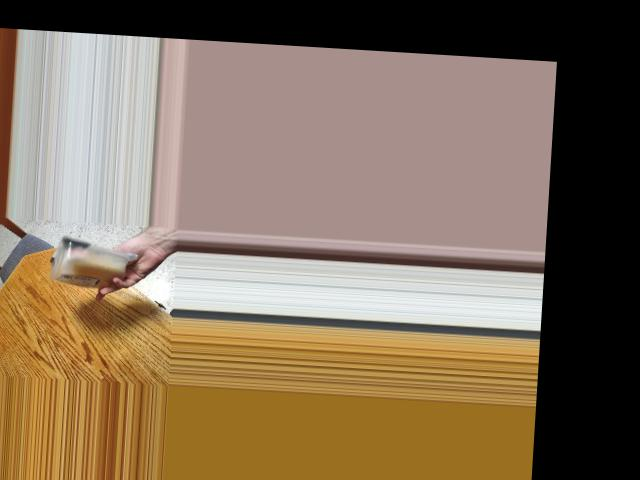cheese: (54, 241, 123, 288)
